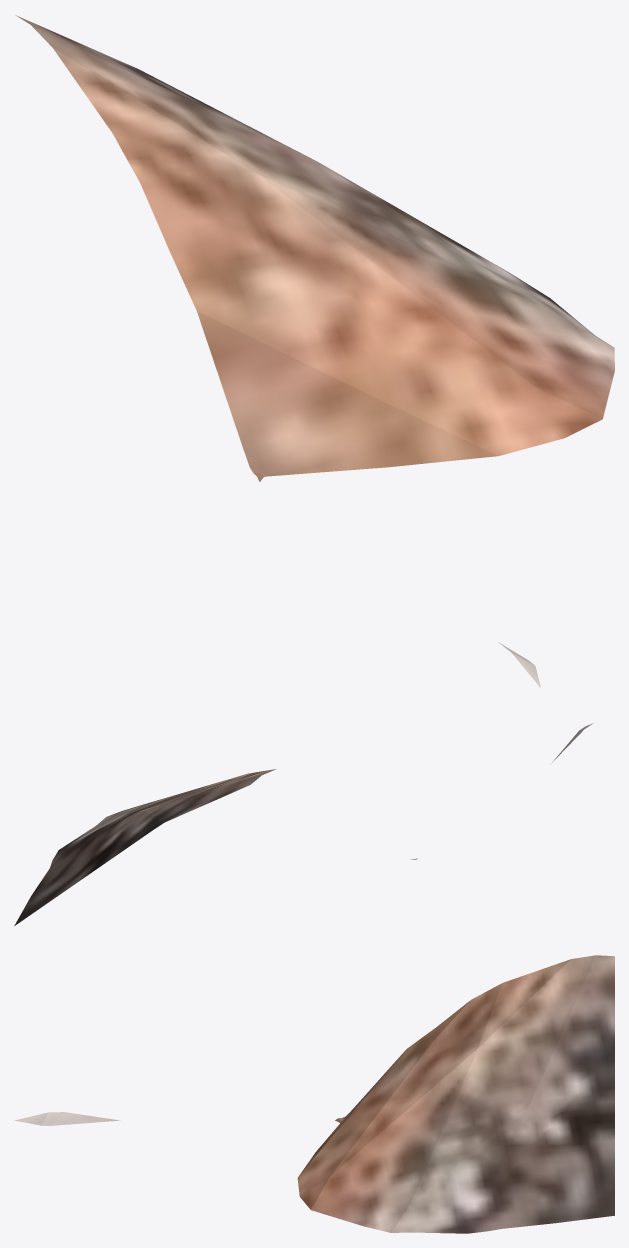
3 renders of one model, top to bottom at view 1: azimuth 30°, elevation 25°; view 2: azimuth 150°, elevation 25°; view 3: azimuth 270°, elevation 25°, orthographic. The views are drawn at different scales.
Bounding box in the file's own units: 0.1248 × 0.085 × 0.2801.
Materials: 1 (1 with a texture image).
